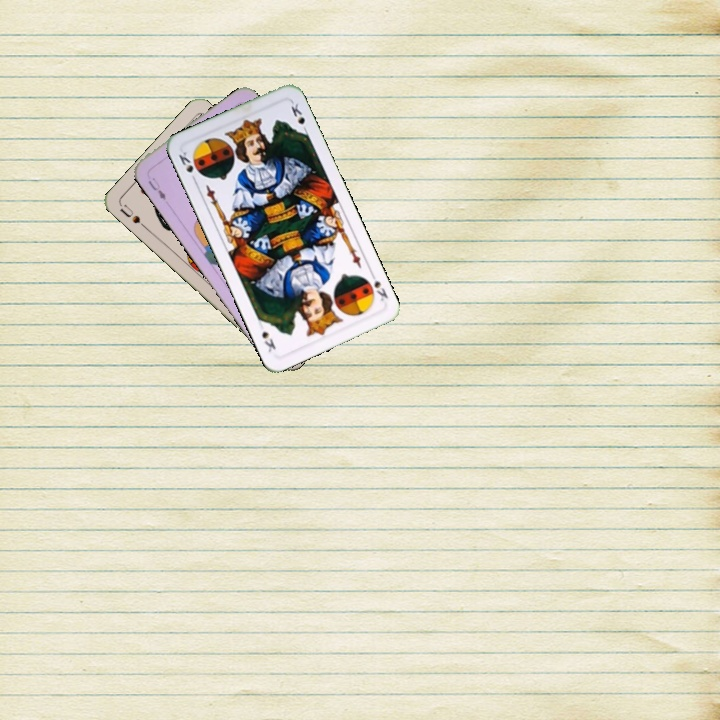EU: (144, 173, 169, 203)
SK: (174, 147, 199, 185), (366, 268, 391, 304)
SU: (116, 200, 150, 232)
